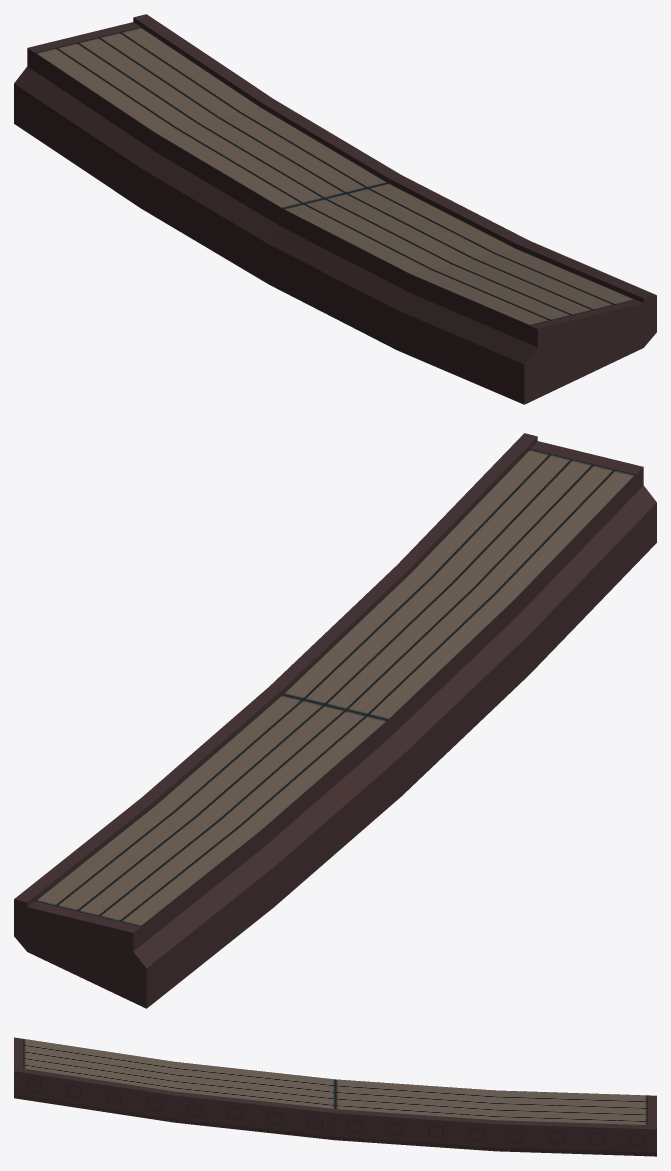
The model's file is SW_ENV_EL_TrackBase_Walkway_Riser_A_Side.fbx.
3 renders of one model, top to bottom at view 1: azimuth 30°, elevation 25°; view 2: azimuth 150°, elevation 25°; view 3: azimuth 270°, elevation 25°, orthographic. The views are drawn at different scales.
Visible parts, largest first — view 1: SW_ENV_EL_TrackBase_Walkway_Riser_A_Side; view 2: SW_ENV_EL_TrackBase_Walkway_Riser_A_Side; view 3: SW_ENV_EL_TrackBase_Walkway_Riser_A_Side.
Part boxes in pixels (x1,y1,x2,y2): SW_ENV_EL_TrackBase_Walkway_Riser_A_Side: [14, 14, 656, 404]; SW_ENV_EL_TrackBase_Walkway_Riser_A_Side: [14, 433, 656, 1008]; SW_ENV_EL_TrackBase_Walkway_Riser_A_Side: [14, 1037, 656, 1156].
Bounding box in the file's own units: 150 × 184 × 1000.
